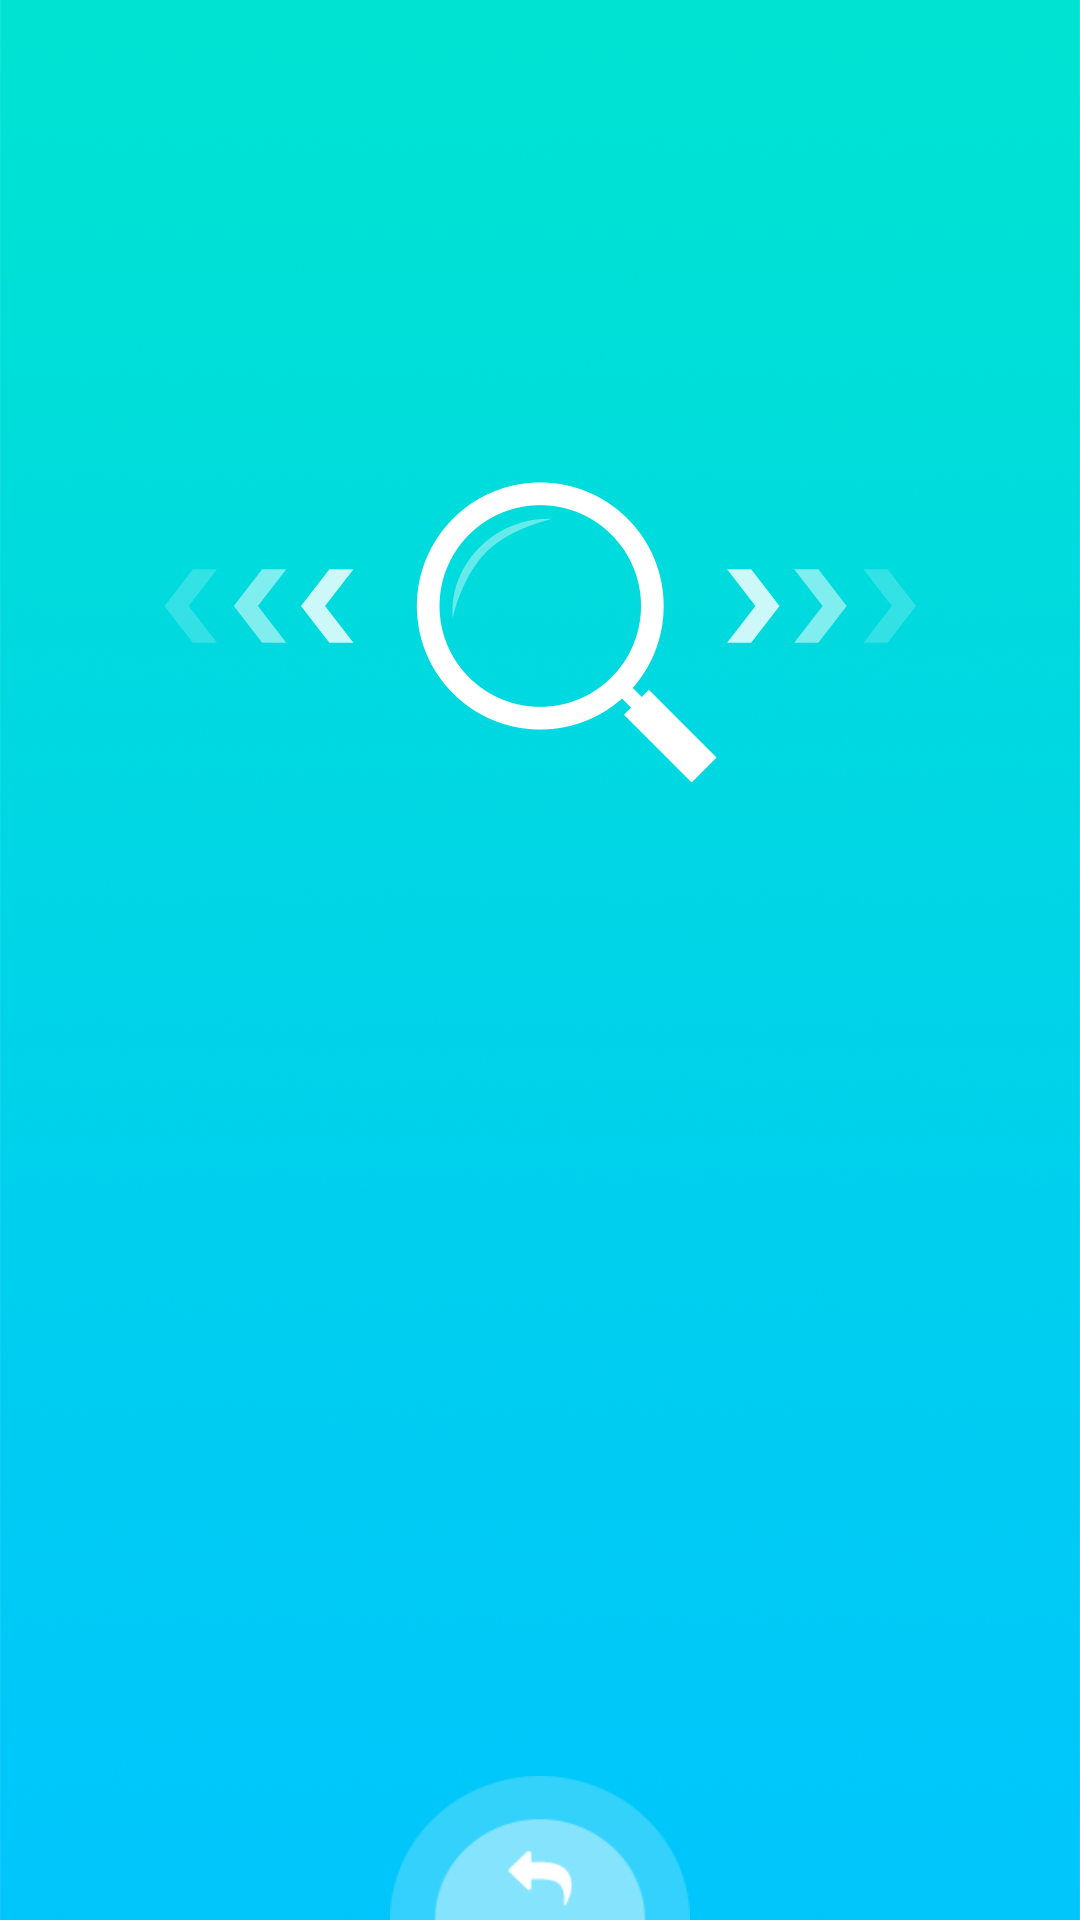

Point at icon controls on the screen. Image size 1080 x 1920, points as (x,y).
back: (540,1848)
